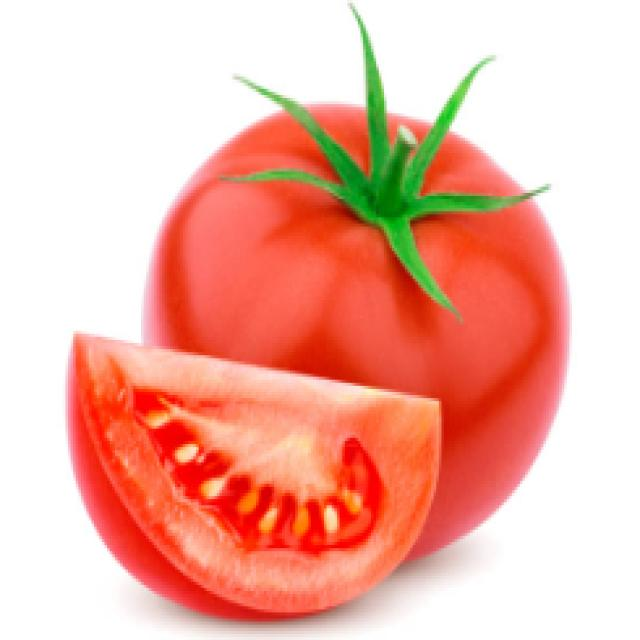Tomato: (41, 52, 596, 626)
